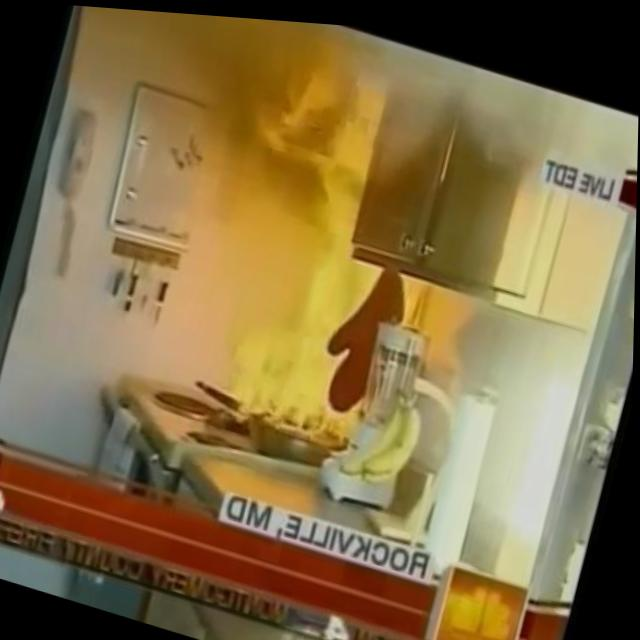fire: (228, 142, 414, 450)
